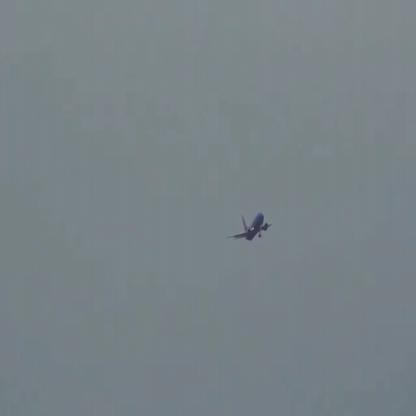CIV_Plane: (228, 212, 274, 242)
